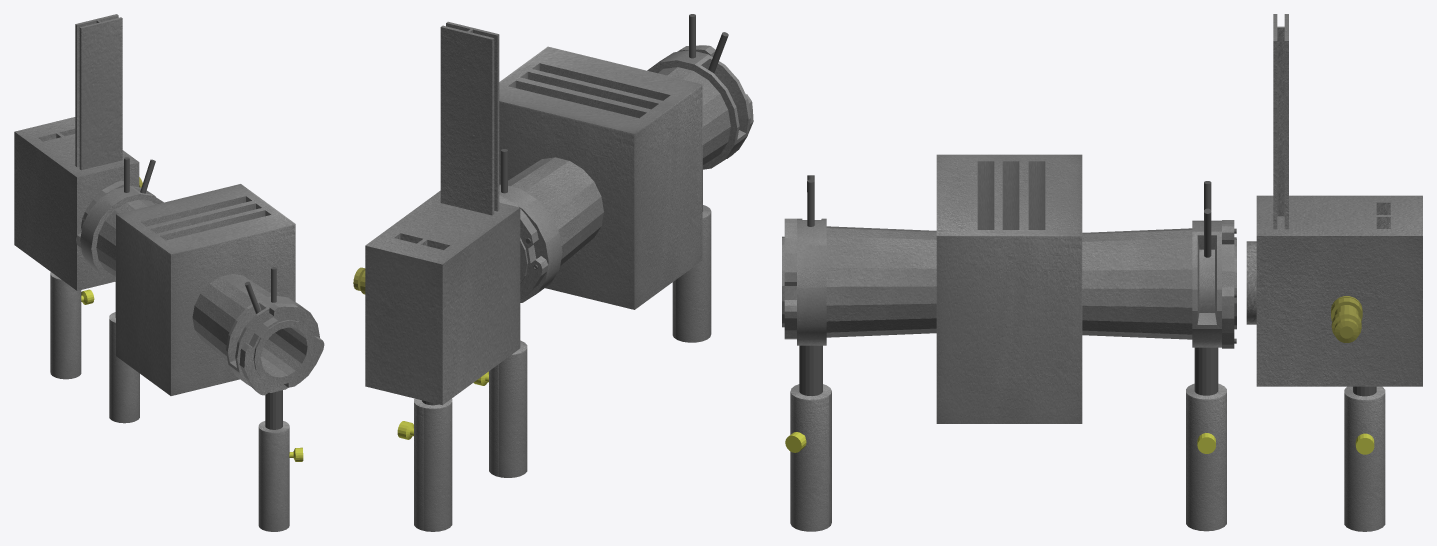
Rendered from Led_system_2_4.glb.
3 renders of one model, left to right at view 1: azimuth 30°, elevation 25°; view 2: azimuth 150°, elevation 25°; view 3: azimuth 270°, elevation 25°, orthographic. The views are drawn at different scales.
Parts seen in each view (by area): view 1: Box010.003, Box009.003, Cylinder047.003, Cylinder037.003, Cylinder355.003, Cylinder351.003, Cylinder353.003, Object013.003; view 2: Box009.003, Box010.003, Cylinder037.003, Cylinder047.003, Cylinder351.003, Cylinder353.003, Cylinder355.003; view 3: Box010.003, Box009.003, Cylinder047.003, Cylinder037.003, Cylinder355.003, Cylinder351.003, Cylinder353.003, Cylinder035.003, Object013.003, Object009.003.
Boxes of the visible parts, x1,y1,x2,y2 form: Box010.003: [116, 184, 295, 395]; Box009.003: [14, 14, 139, 290]; Cylinder047.003: [192, 274, 324, 395]; Cylinder037.003: [76, 180, 163, 281]; Cylinder355.003: [258, 421, 289, 531]; Cylinder351.003: [50, 272, 81, 379]; Cylinder353.003: [109, 312, 139, 423]; Object013.003: [265, 390, 282, 429]; Box009.003: [365, 21, 520, 405]; Box010.003: [499, 46, 702, 309]; Cylinder037.003: [499, 157, 603, 302]; Cylinder047.003: [647, 45, 753, 169]; Cylinder351.003: [414, 398, 452, 531]; Cylinder353.003: [489, 340, 527, 477]; Cylinder355.003: [672, 205, 711, 342]; Box010.003: [936, 154, 1082, 423]; Box009.003: [1246, 14, 1422, 386]; Cylinder047.003: [782, 218, 936, 345]; Cylinder037.003: [1082, 220, 1236, 348]; Cylinder355.003: [790, 384, 831, 531]; Cylinder351.003: [1344, 386, 1385, 531]; Cylinder353.003: [1186, 383, 1226, 531]; Cylinder035.003: [1331, 296, 1362, 342]; Object013.003: [799, 345, 822, 395]; Object009.003: [1194, 347, 1218, 395].
Bounding box in the file's own units: 4.6 × 13.18 × 15.41.
Materials: 4 (1 with a texture image).
